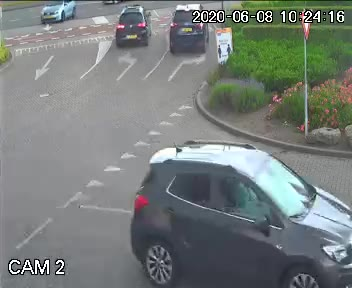car: (128, 131, 352, 288), (162, 2, 209, 58), (109, 4, 152, 49), (35, 0, 80, 27)
